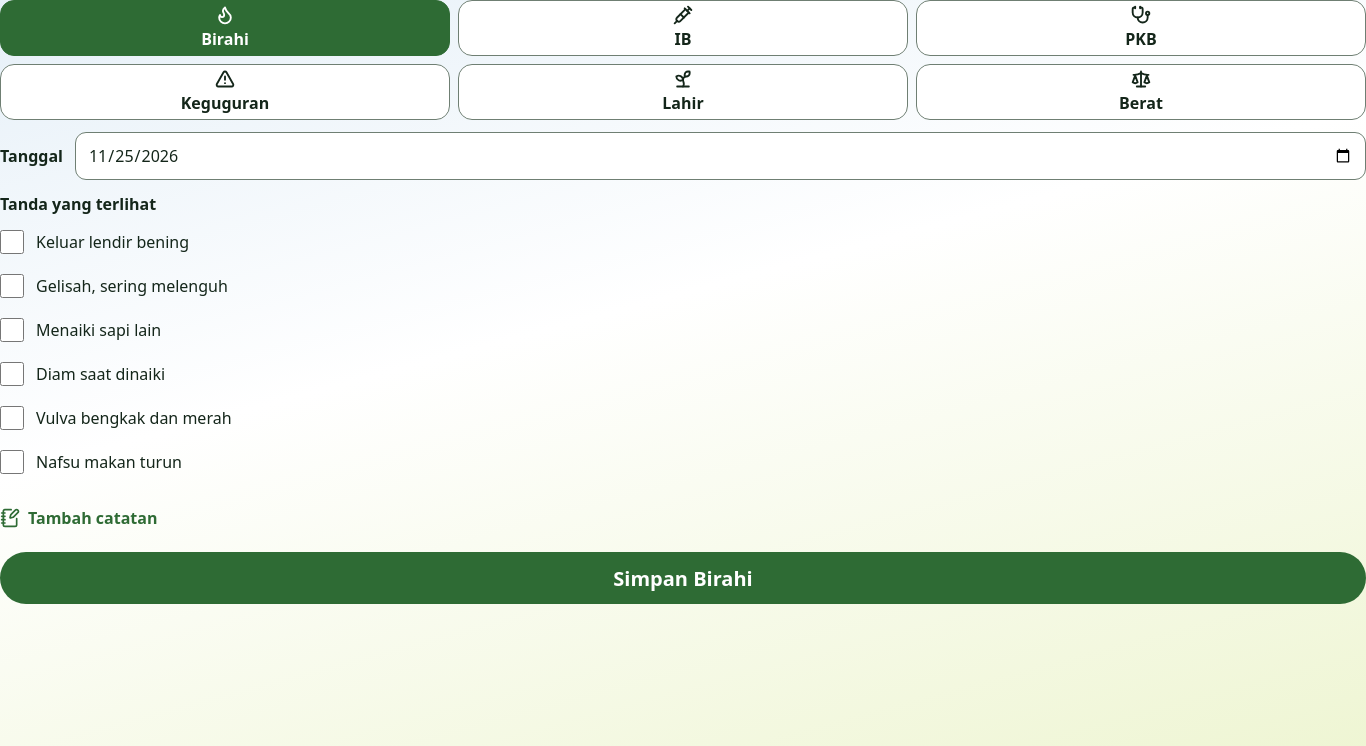
Scenario: EventForm › peringatan: tampil "Tetap simpan", lalu dikirim ulang dengan confirmWarnings
Click the checkbox labelled "Gelisah, sering melenguh" at [12, 286], box [0, 274, 24, 298]
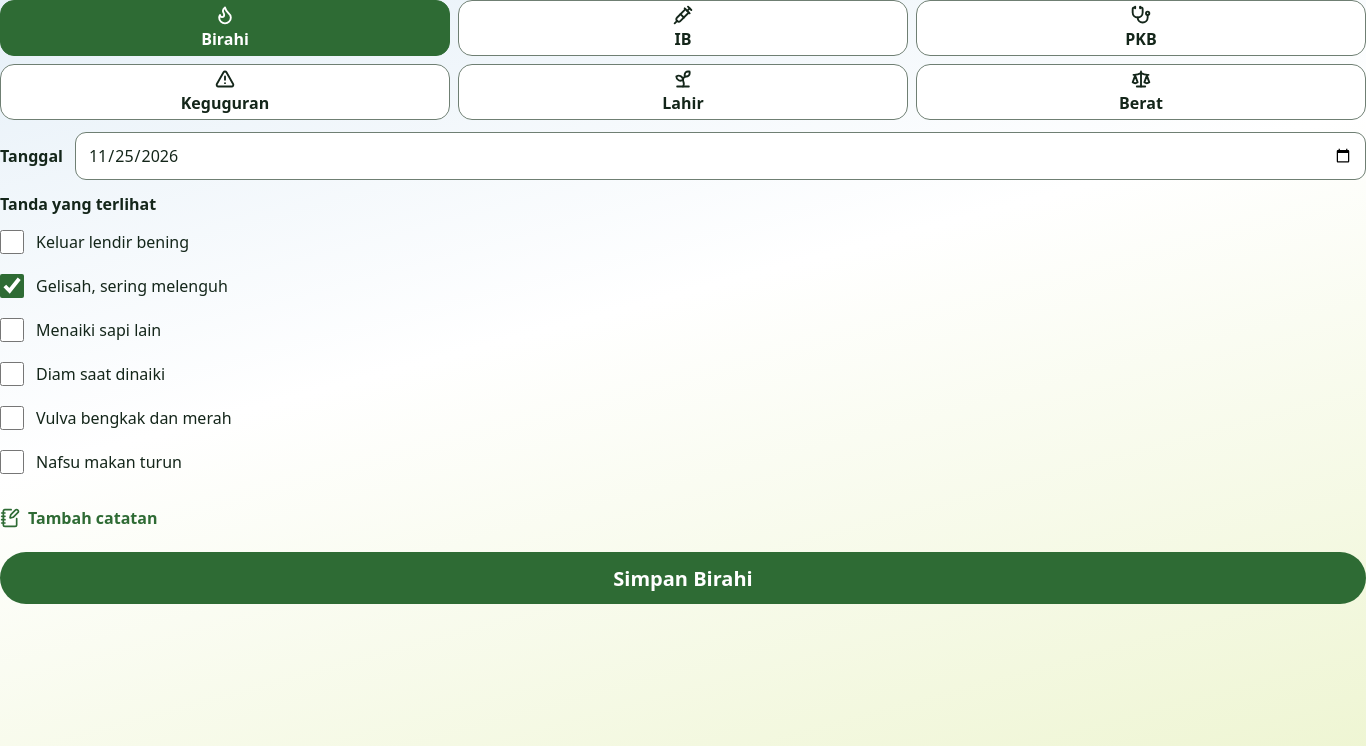
Click the button "Simpan Birahi" at [683, 578], box [0, 552, 1365, 604]
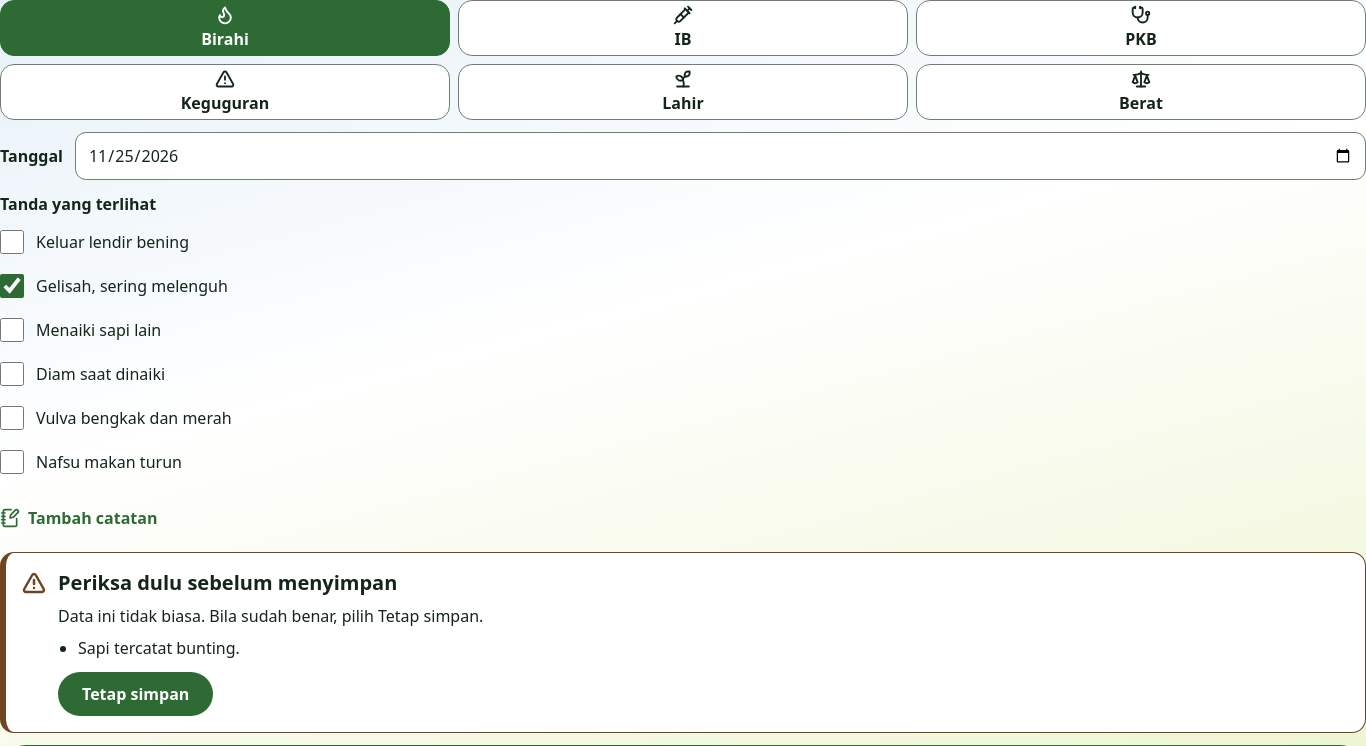
Check: the list item "Sapi tercatat bunting." is shown, box [78, 637, 240, 659]
Click the button "Tetap simpan" at [136, 694], box [58, 672, 213, 716]
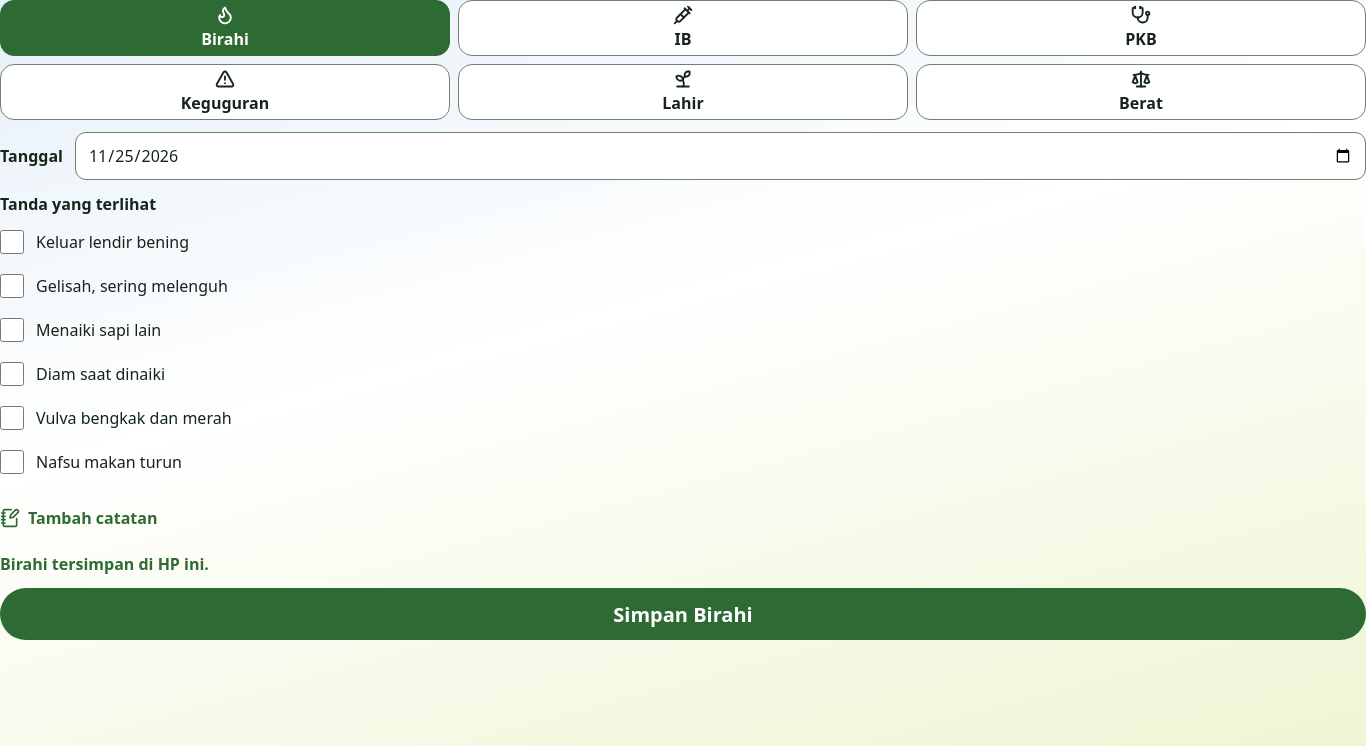
Check: the text "Birahi tersimpan di HP ini." is shown, box [0, 553, 209, 575]
